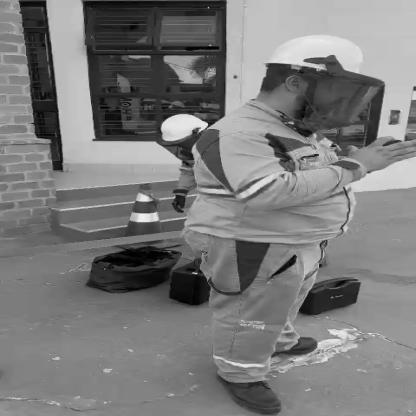helmet: (265, 30, 387, 136), (152, 115, 215, 162)
